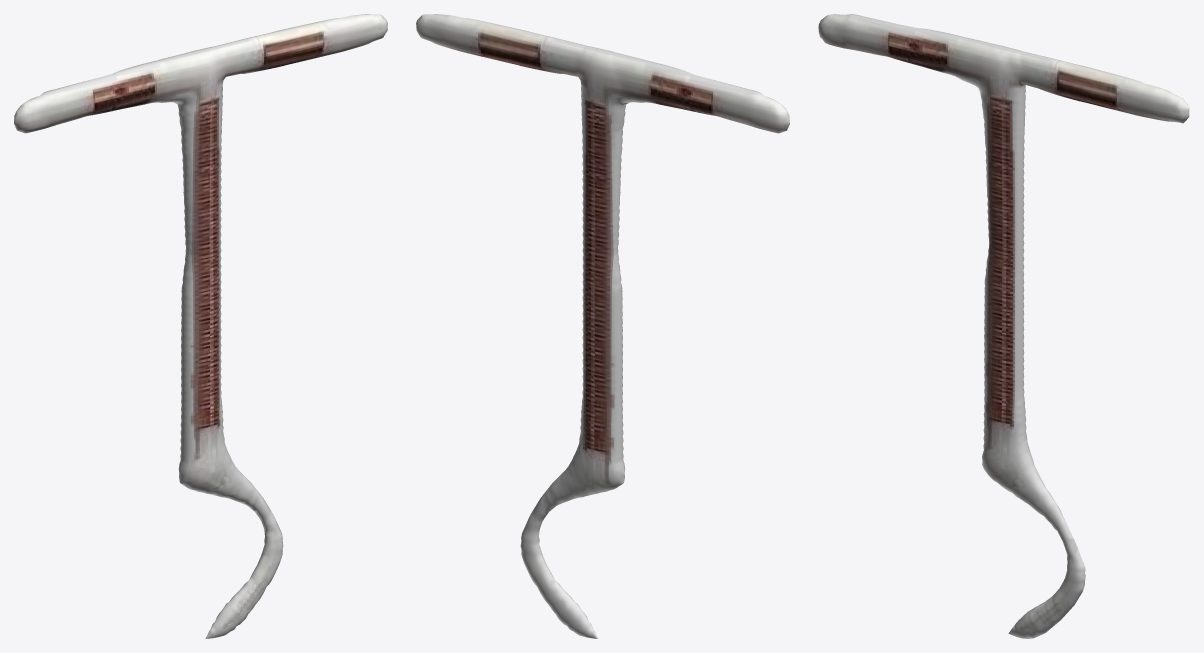
Rendered from iud.glb.
3 views of the same model, side by side, from view 1: azimuth 30°, elevation 25°; view 2: azimuth 150°, elevation 25°; view 3: azimuth 330°, elevation 25° (orthographic).
Parts seen in each view (by area): view 1: Object_5; view 2: Object_5; view 3: Object_5.
Part boxes in pixels (box(x1,y1,x2,y2)): Object_5: box(14, 14, 387, 638); Object_5: box(416, 14, 789, 638); Object_5: box(818, 14, 1189, 638).
Size of the model in its own units: 0.1868 by 0.2826 by 0.0119.
1 material, 1 textured.
